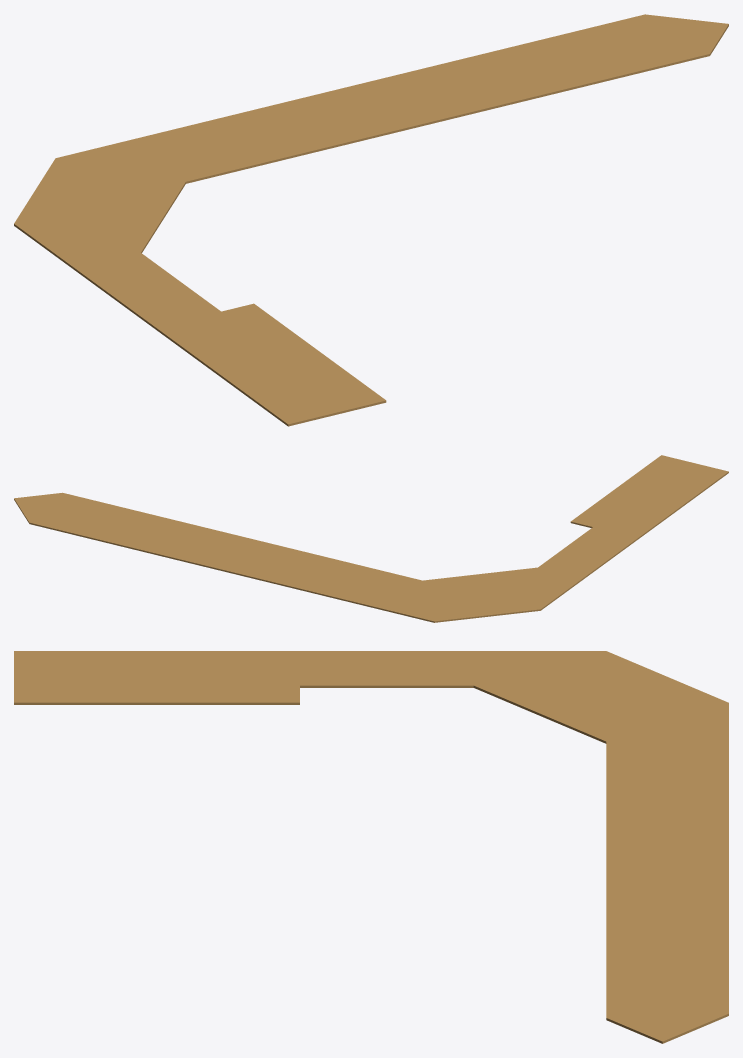
3 views of the same model, one above another, from view 1: azimuth 30°, elevation 25°; view 2: azimuth 150°, elevation 25°; view 3: azimuth 270°, elevation 25° (orthographic). The views are drawn at different scales.
Parts seen in each view (by area): view 1: shape; view 2: shape; view 3: shape.
Part boxes in pixels (x1=…): shape: x1=14, y1=14, x2=728, y2=426; shape: x1=14, y1=455, x2=728, y2=622; shape: x1=14, y1=651, x2=728, y2=1043.
Bounding box in the file's own units: 9.05 × 0.025 × 7.
